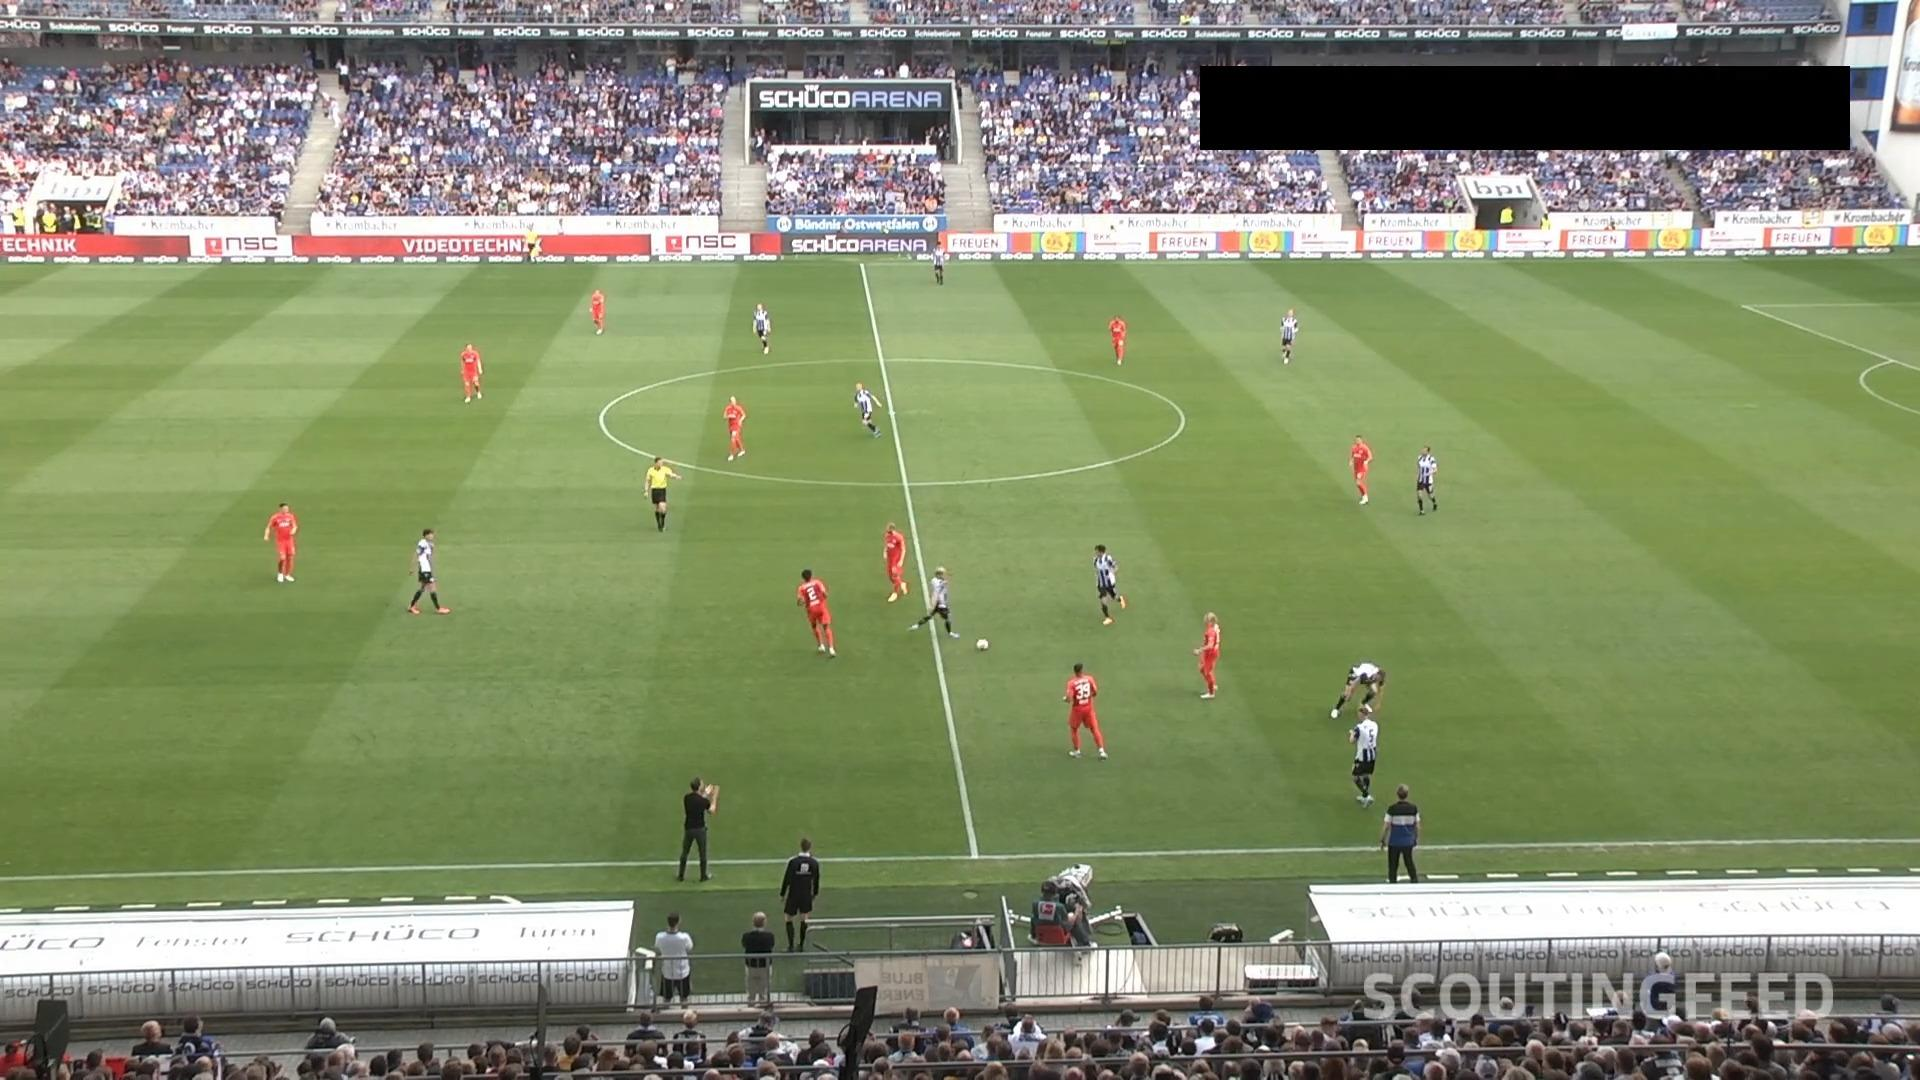ball: (975, 637, 990, 653)
